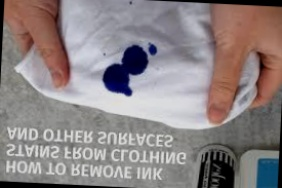ink: (102, 63, 133, 97), (122, 47, 149, 74), (150, 44, 156, 56)
